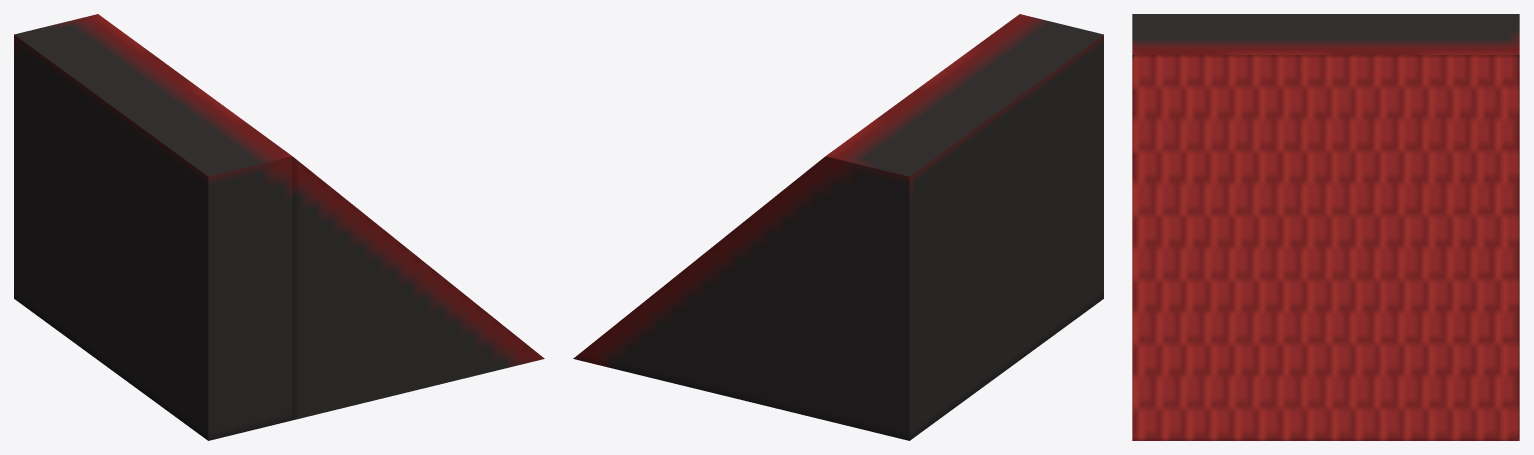
Rendered from Roof_x1.fbx.
The picture shows the model from 3 angles, left to right: view 1: azimuth 30°, elevation 25°; view 2: azimuth 150°, elevation 25°; view 3: azimuth 270°, elevation 25°; orthographic projection.
Parts seen in each view (by area): view 1: Roof_x1; view 2: Roof_x1; view 3: Roof_x1.
Boxes of the visible parts, <box> form: Roof_x1: <box>14,14,544,440</box>; Roof_x1: <box>573,14,1103,440</box>; Roof_x1: <box>1132,14,1519,440</box>.
Size of the model in its own units: 400 by 300 by 400.
Materials: 1 (1 with a texture image).
